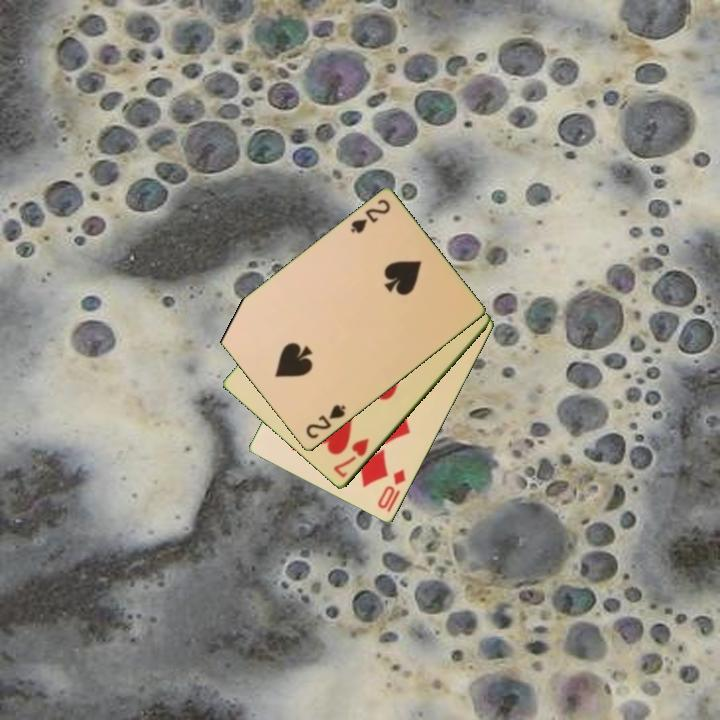10d: (374, 466, 409, 515)
2s: (302, 401, 349, 442), (347, 196, 393, 237)
7h: (330, 435, 372, 481)
